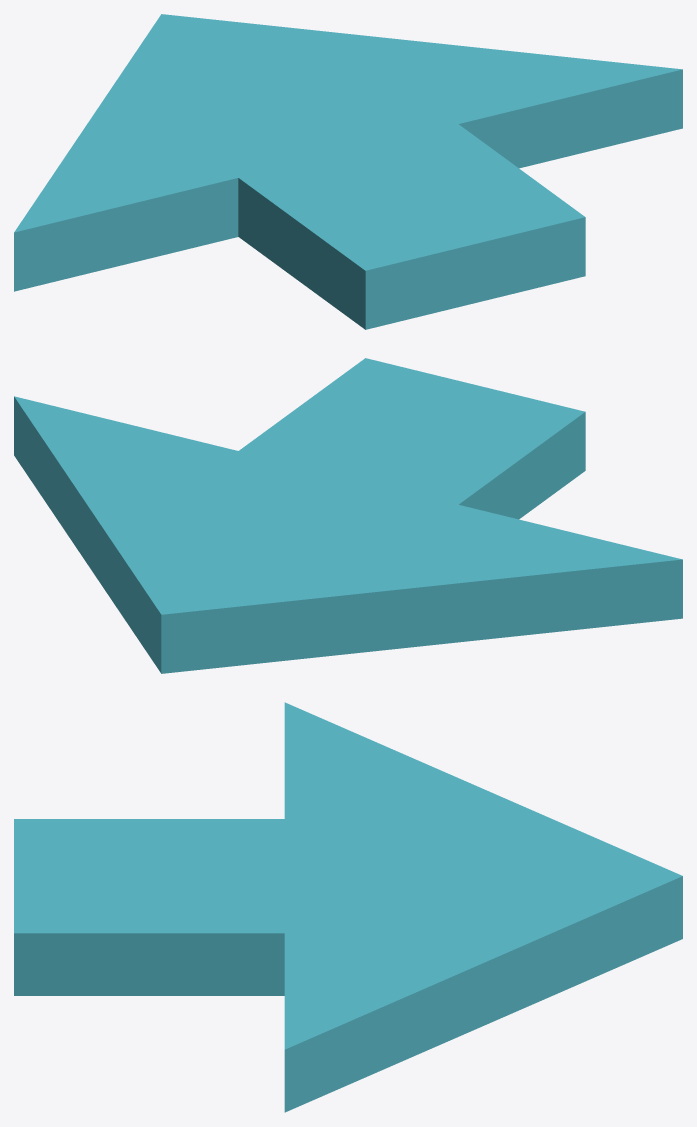
Rendered from Seta.fbx.
The picture shows the model from 3 angles, top to bottom: view 1: azimuth 30°, elevation 25°; view 2: azimuth 150°, elevation 25°; view 3: azimuth 270°, elevation 25°; orthographic projection. The views are drawn at different scales.
Visible parts, largest first — view 1: Cube; view 2: Cube; view 3: Cube.
Part boxes in pixels (x1,y1,x2,y2): Cube: (14,14,682,329); Cube: (14,358,682,673); Cube: (14,702,682,1112).
Size of the model in its own units: 608 by 51.35 by 495.
